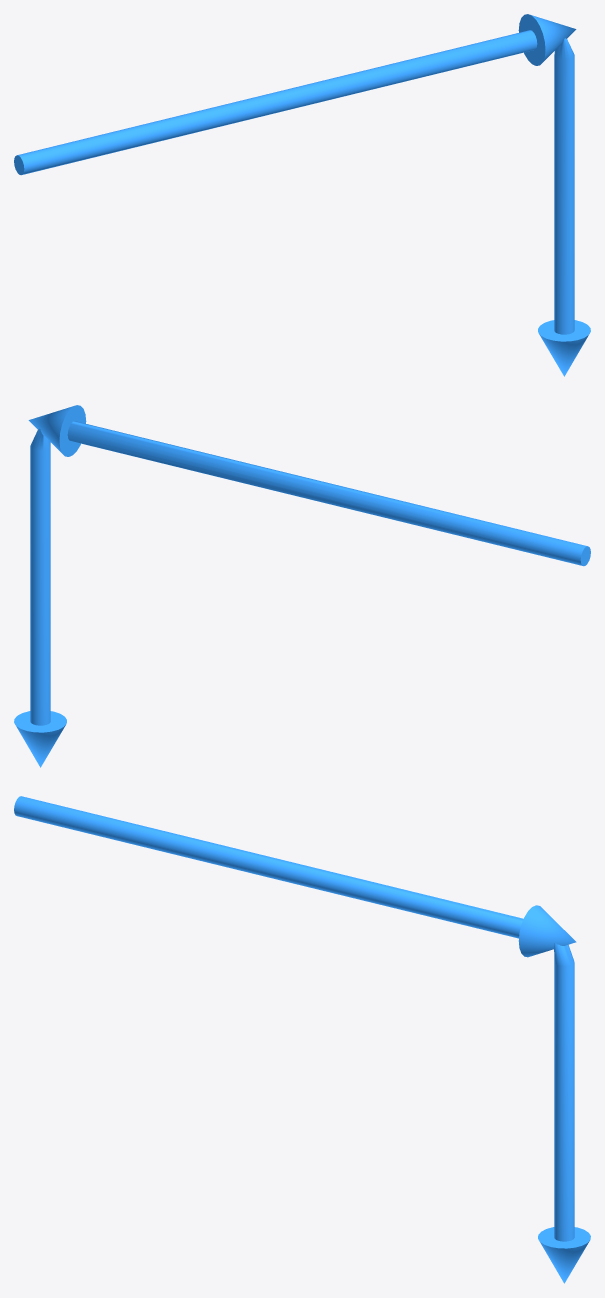
File: float_valve_flow.glb
3 renders of one model, top to bottom at view 1: azimuth 30°, elevation 25°; view 2: azimuth 150°, elevation 25°; view 3: azimuth 330°, elevation 25°, orthographic.
Parts seen in each view (by area): view 1: flow_in; view 2: flow_in; view 3: flow_in.
Boxes of the visible parts, x1,y1,x2,y2 form: flow_in: (14,14,590,376); flow_in: (14,405,590,767); flow_in: (14,796,590,1283).
Size of the model in its own units: 0.5108 by 0.3168 by 0.0416.
